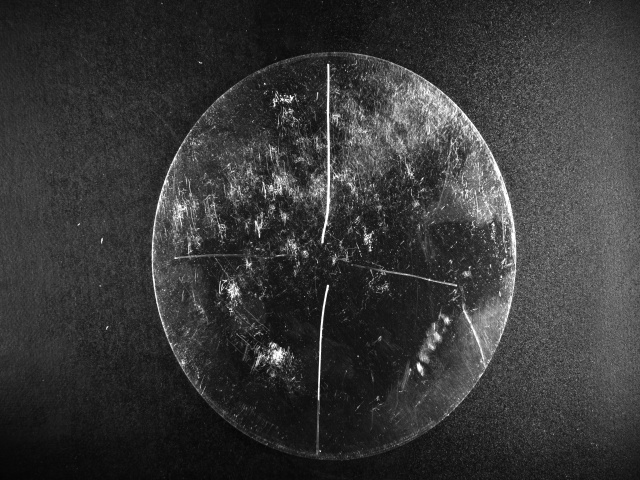ca_shang: (309, 280, 332, 452), (318, 62, 337, 247), (342, 258, 456, 287), (172, 250, 299, 262)
